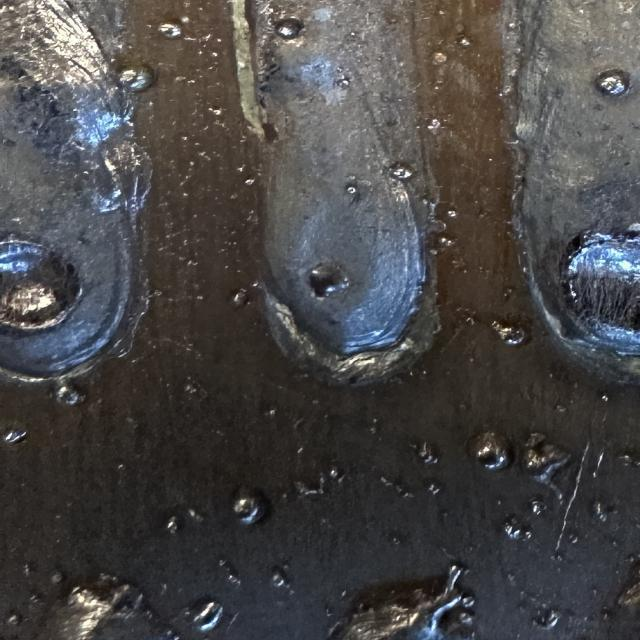Excess Reinforcement: (264, 280, 440, 384), (108, 229, 150, 357), (55, 575, 133, 640), (418, 565, 475, 639), (523, 432, 570, 483), (123, 142, 152, 218)
Spatters: (233, 486, 272, 526), (475, 431, 510, 470), (595, 69, 630, 96), (193, 602, 223, 632), (492, 321, 528, 346), (118, 66, 153, 91), (502, 516, 532, 540), (295, 474, 325, 496), (273, 18, 303, 39), (55, 385, 85, 405), (430, 231, 457, 251), (418, 442, 438, 465), (158, 22, 182, 39), (390, 164, 413, 181), (2, 429, 26, 445), (543, 610, 560, 628), (232, 289, 248, 307), (593, 501, 607, 521), (272, 571, 287, 588), (158, 630, 180, 640), (530, 500, 545, 514), (167, 516, 178, 534), (432, 51, 447, 64), (263, 406, 278, 418), (50, 571, 63, 584), (328, 466, 340, 479), (183, 382, 197, 393), (7, 614, 22, 624), (458, 36, 472, 46), (428, 484, 440, 495), (620, 455, 633, 465), (597, 452, 603, 469), (23, 564, 32, 575), (325, 604, 333, 616), (347, 185, 357, 194), (208, 108, 223, 114), (28, 595, 40, 602), (447, 210, 457, 218), (180, 15, 190, 23), (218, 559, 227, 567), (245, 178, 255, 185), (23, 564, 30, 574), (465, 318, 475, 325), (570, 535, 578, 543), (245, 179, 255, 185), (210, 51, 218, 57), (392, 538, 400, 544), (117, 464, 125, 469), (180, 136, 188, 141), (602, 395, 608, 401), (182, 190, 188, 196), (438, 10, 445, 15), (182, 136, 188, 141), (197, 295, 203, 300), (423, 370, 427, 374)
